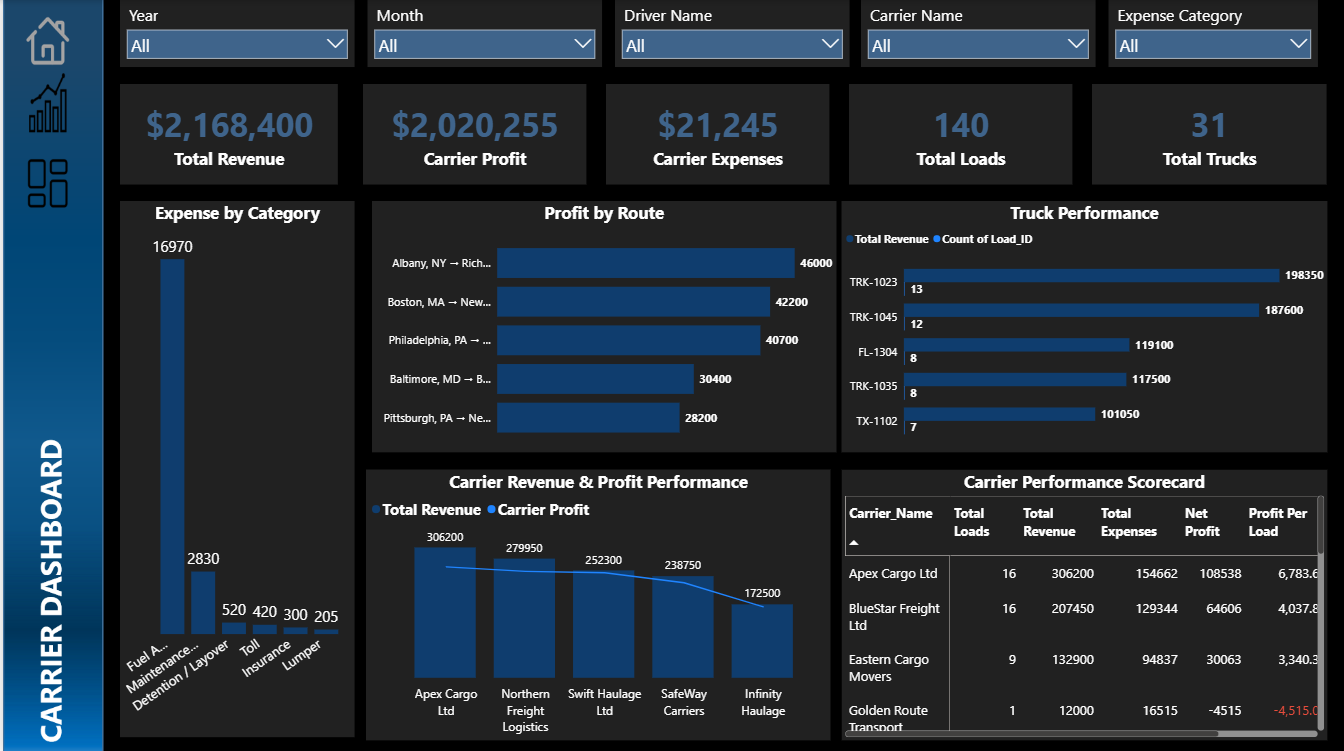

Layout of this report page (visuals, bound fields, positions):
{"tool":"powerbi","page":{"name":"CARRIER DASHBOARD","canvas":[1920,1080],"ordinal":0},"visuals":[{"type":"card","fields":{"Values":["KPI_Measures.Load Revenue"]},"box":[168,120,312,144],"z":0},{"type":"card","fields":{"Values":["KPI_Measures.Carrier Profit"]},"box":[516,120,320,144],"z":1000},{"type":"card","fields":{"Values":["KPI_Measures.Carrier Expenses"]},"box":[864,120,320,144],"z":2000},{"type":"card","fields":{"Values":["KPI_Measures.Total Trucks"]},"box":[1560,120,336,144],"z":3000},{"type":"card","fields":{"Values":["KPI_Measures.Total Loads"]},"box":[1212,120,320,144],"z":4000},{"type":"lineClusteredColumnComboChart","title":"Carrier Revenue & Profit Performance","fields":{"Category":["Load_Data.Carrier_Name"],"Y":["KPI_Measures.Load Revenue"],"Y2":["KPI_Measures.Carrier Profit"]},"box":[519.5,672,665,388],"z":5000},{"type":"clusteredBarChart","title":"Truck Performance","fields":{"Y":["KPI_Measures.Load Revenue","CountNonNull(Load_Data.Load_ID)"],"Category":["Load_Data.Truck_Name"]},"box":[1200,288,696,360],"z":6000},{"type":"clusteredBarChart","title":"Profit by Route","fields":{"Y":["KPI_Measures.Carrier Profit"],"Category":["Load_Data.Route"]},"box":[528,288,665,360],"z":7000},{"type":"clusteredColumnChart","title":"Expense by Category","fields":{"Category":["Expense_Data.Expense_Category"],"Y":["KPI_Measures.Carrier Expenses"]},"box":[168,288,336,768],"z":8000},{"type":"pivotTable","title":"Carrier Performance Scorecard","fields":{"Values":["KPI_Measures.Total Loads","KPI_Measures.Load Revenue","KPI_Measures.Load Expenses","KPI_Measures.Total Profit","KPI_Measures.Profit Per Load","KPI_Measures.Profit Margin %"],"Rows":["Load_Data.Carrier_Name"]},"box":[1200,672,696,388],"z":9000},{"type":"slicer","fields":{"Values":["Date_Table.Month"]},"box":[522,0,336,96],"z":10000},{"type":"slicer","fields":{"Values":["Load_Data.Driver_Name"]},"box":[876,0,336,96],"z":11000},{"type":"slicer","fields":{"Values":["Date_Table.Year"]},"box":[168,0,336,96],"z":12000},{"type":"slicer","fields":{"Values":["Expense_Data.Expense_Category"]},"box":[1584,0,300,96],"z":13000},{"type":"slicer","fields":{"Values":["Load_Data.Carrier_Name"]},"box":[1230,0,336,96],"z":14000},{"type":"actionButton","box":[0,24,96,72],"z":15000},{"type":"actionButton","box":[24,120,72,96],"z":16000},{"type":"actionButton","box":[24,216,72,96],"z":17000},{"type":"actionButton","box":[24,24,72,96],"z":18000},{"type":"actionButton","box":[0,120,96,96],"z":19000},{"type":"actionButton","box":[24,240,72,72],"z":20000},{"type":"image","box":[0,0,144,1080],"z":21000},{"type":"actionButton","box":[24,24,72,72],"z":22000},{"type":"actionButton","box":[24,120,72,72],"z":23000},{"type":"actionButton","box":[24,216,72,96],"z":24000}]}

Visuals, with their boxes on the page's 1920x1080 design canvas (x1, y1, x2, y2). These are canvas units, not pixel positions in the 1344x751 screenshot, which may show the page scaled, cropped or inside an application window:
card - KPI_Measures.Load Revenue: <bbox>168, 120, 480, 264</bbox>
card - KPI_Measures.Carrier Profit: <bbox>516, 120, 836, 264</bbox>
card - KPI_Measures.Carrier Expenses: <bbox>864, 120, 1184, 264</bbox>
card - KPI_Measures.Total Trucks: <bbox>1560, 120, 1896, 264</bbox>
card - KPI_Measures.Total Loads: <bbox>1212, 120, 1532, 264</bbox>
"Carrier Revenue & Profit Performance" lineClusteredColumnComboChart: <bbox>520, 672, 1184, 1060</bbox>
"Truck Performance" clusteredBarChart: <bbox>1200, 288, 1896, 648</bbox>
"Profit by Route" clusteredBarChart: <bbox>528, 288, 1193, 648</bbox>
"Expense by Category" clusteredColumnChart: <bbox>168, 288, 504, 1056</bbox>
"Carrier Performance Scorecard" pivotTable: <bbox>1200, 672, 1896, 1060</bbox>
slicer - Date_Table.Month: <bbox>522, 0, 858, 96</bbox>
slicer - Load_Data.Driver_Name: <bbox>876, 0, 1212, 96</bbox>
slicer - Date_Table.Year: <bbox>168, 0, 504, 96</bbox>
slicer - Expense_Data.Expense_Category: <bbox>1584, 0, 1884, 96</bbox>
slicer - Load_Data.Carrier_Name: <bbox>1230, 0, 1566, 96</bbox>
actionButton: <bbox>0, 24, 96, 96</bbox>
actionButton: <bbox>24, 120, 96, 216</bbox>
actionButton: <bbox>24, 216, 96, 312</bbox>
actionButton: <bbox>24, 24, 96, 120</bbox>
actionButton: <bbox>0, 120, 96, 216</bbox>
actionButton: <bbox>24, 240, 96, 312</bbox>
image: <bbox>0, 0, 144, 1080</bbox>
actionButton: <bbox>24, 24, 96, 96</bbox>
actionButton: <bbox>24, 120, 96, 192</bbox>
actionButton: <bbox>24, 216, 96, 312</bbox>
